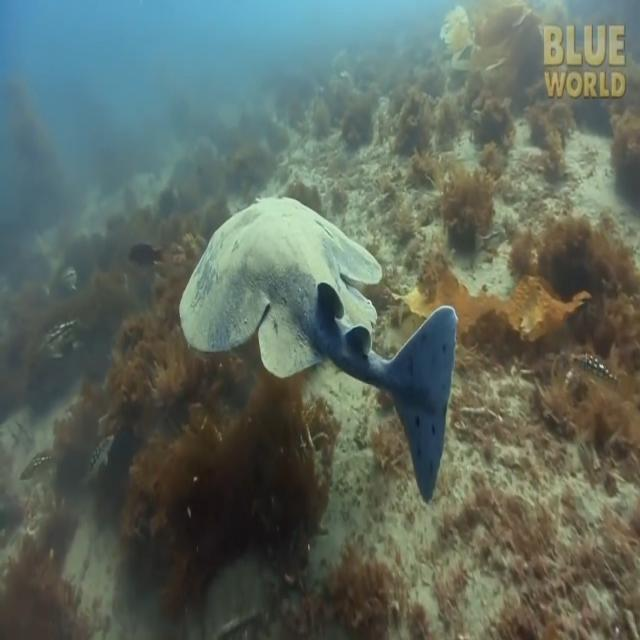Torpedo -Electrical-: (178, 194, 458, 504)
